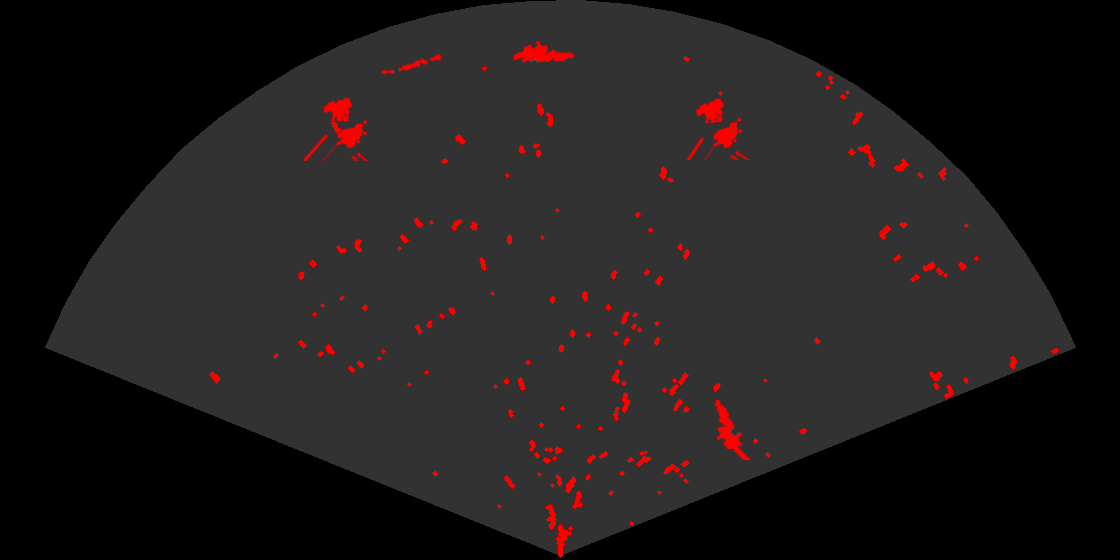cage: (304, 96, 370, 161), (685, 97, 751, 160)
chain: (378, 52, 445, 76)
frogman: (713, 398, 752, 460), (514, 39, 577, 64)
